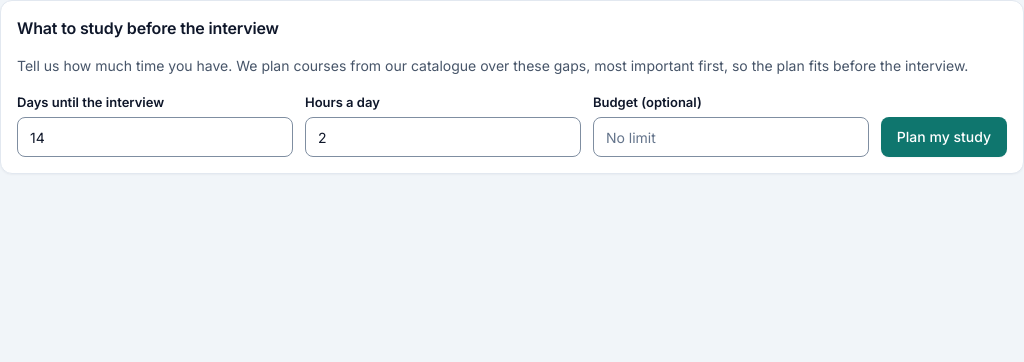
Test case: JobTargetRoadmapPanel › says more time would help only when time is what kept courses out
Click the button "Plan my study" at (944, 137), box left=881, top=117, right=1007, bottom=157
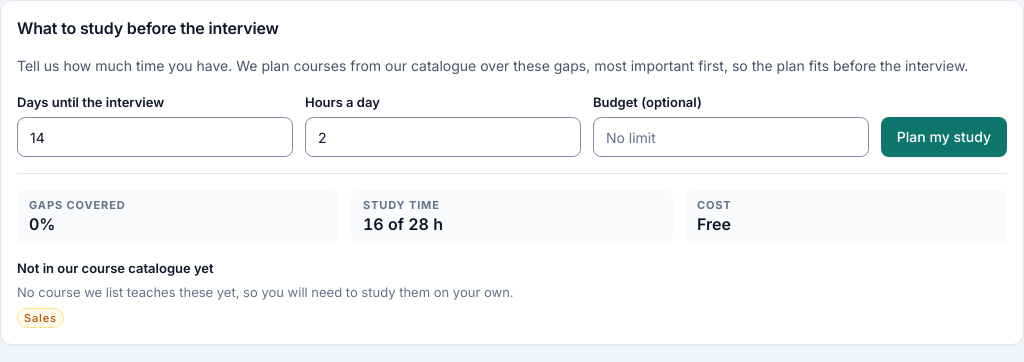
Check: the text "Not in our course catalogue yet" is shown, box left=17, top=260, right=214, bottom=276
